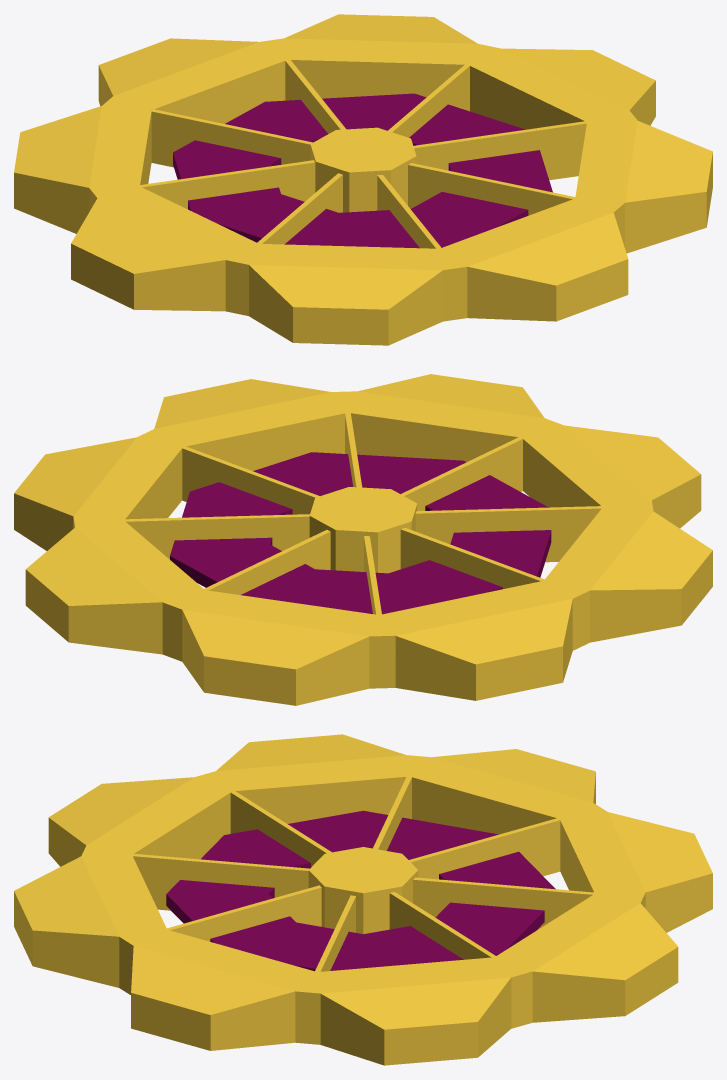
File: Gear_Stabalizer_1.fbx
3 renders of one model, top to bottom at view 1: azimuth 30°, elevation 25°; view 2: azimuth 150°, elevation 25°; view 3: azimuth 270°, elevation 25°, orthographic.
Visible parts, largest first — view 1: Gear_Stabalizer_1; view 2: Gear_Stabalizer_1; view 3: Gear_Stabalizer_1.
Boxes of the visible parts, box(x1,y1,x2,y2) form: Gear_Stabalizer_1: box(14, 14, 712, 345); Gear_Stabalizer_1: box(14, 374, 712, 705); Gear_Stabalizer_1: box(14, 734, 712, 1065).
Bounding box in the file's own units: 2.4 × 0.2269 × 2.4.
